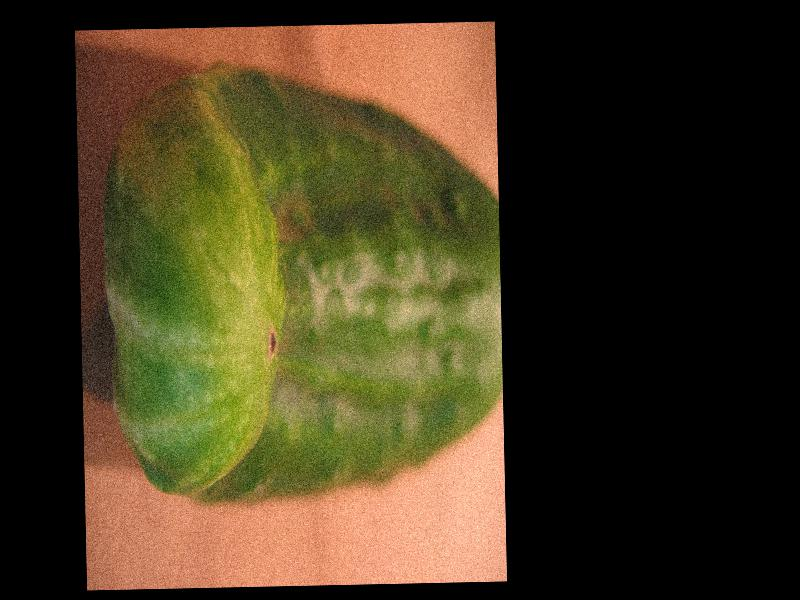Cucumber: (101, 60, 504, 508)
